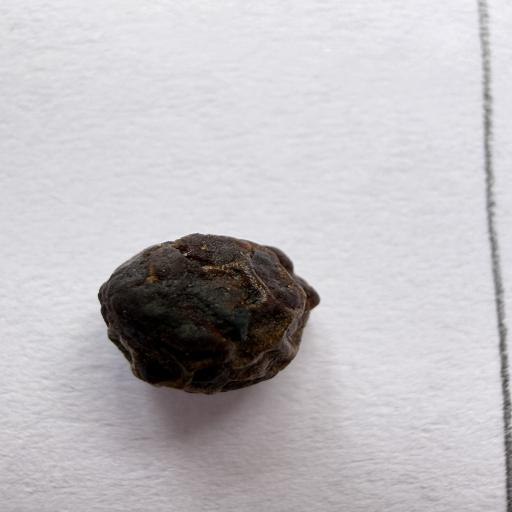Black_pepper: (90, 222, 322, 402)
